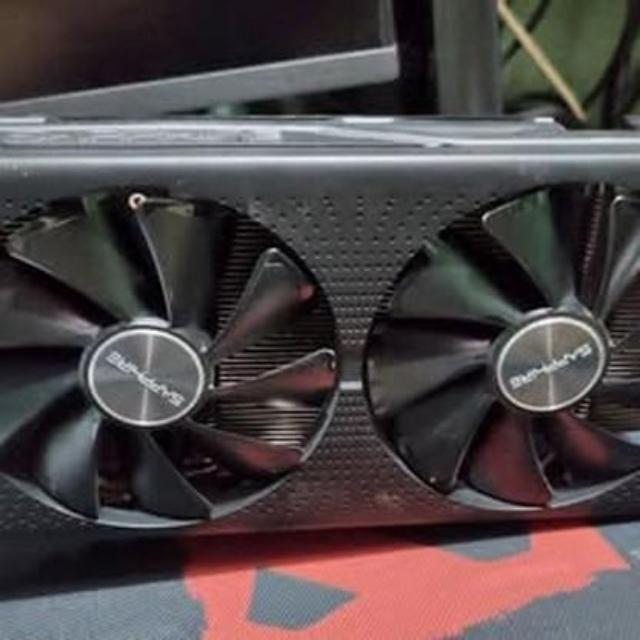GPU: (0, 107, 640, 570)
